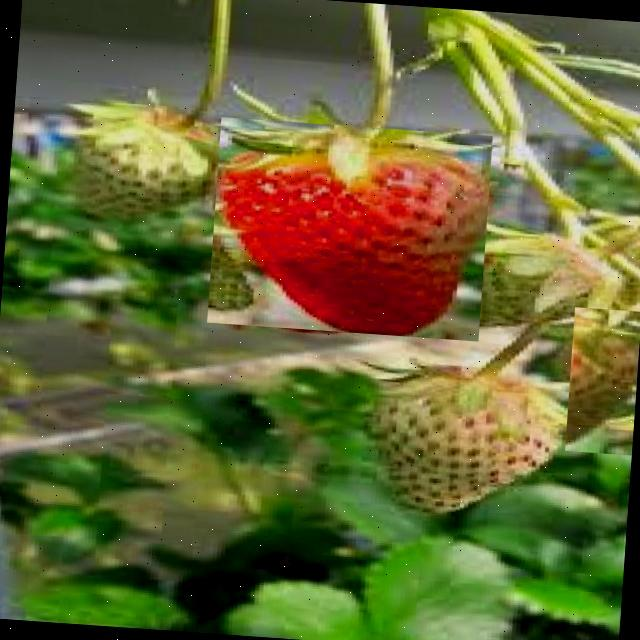ripe: (207, 118, 493, 342)
unripe: (367, 362, 570, 526), (70, 100, 222, 228), (443, 230, 607, 337), (564, 307, 640, 455)
